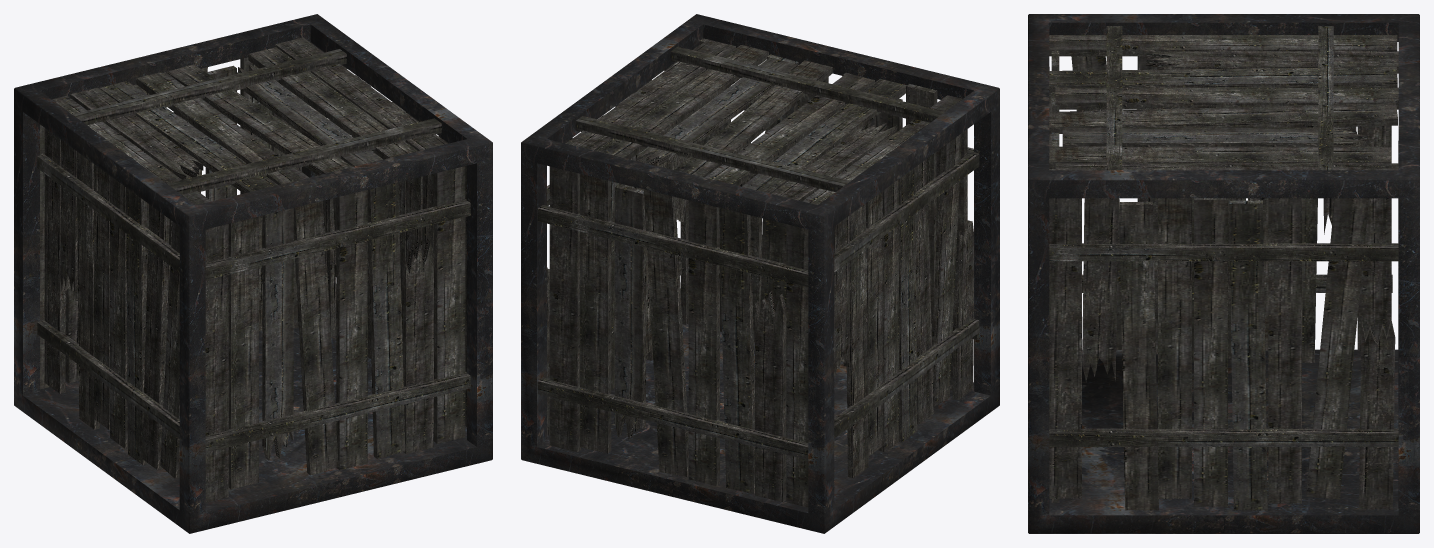
The model's file is WoodenBox_4.fbx.
3 views of the same model, side by side, from view 1: azimuth 30°, elevation 25°; view 2: azimuth 150°, elevation 25°; view 3: azimuth 270°, elevation 25° (orthographic). The views are drawn at different scales.
Parts seen in each view (by area): view 1: WoodenBox_4; view 2: WoodenBox_4; view 3: WoodenBox_4.
Boxes of the visible parts, box(x1,y1,x2,y2) form: WoodenBox_4: box(14, 14, 492, 533); WoodenBox_4: box(521, 14, 999, 533); WoodenBox_4: box(1028, 14, 1419, 533).
Bounding box in the file's own units: 100 × 100 × 100.
